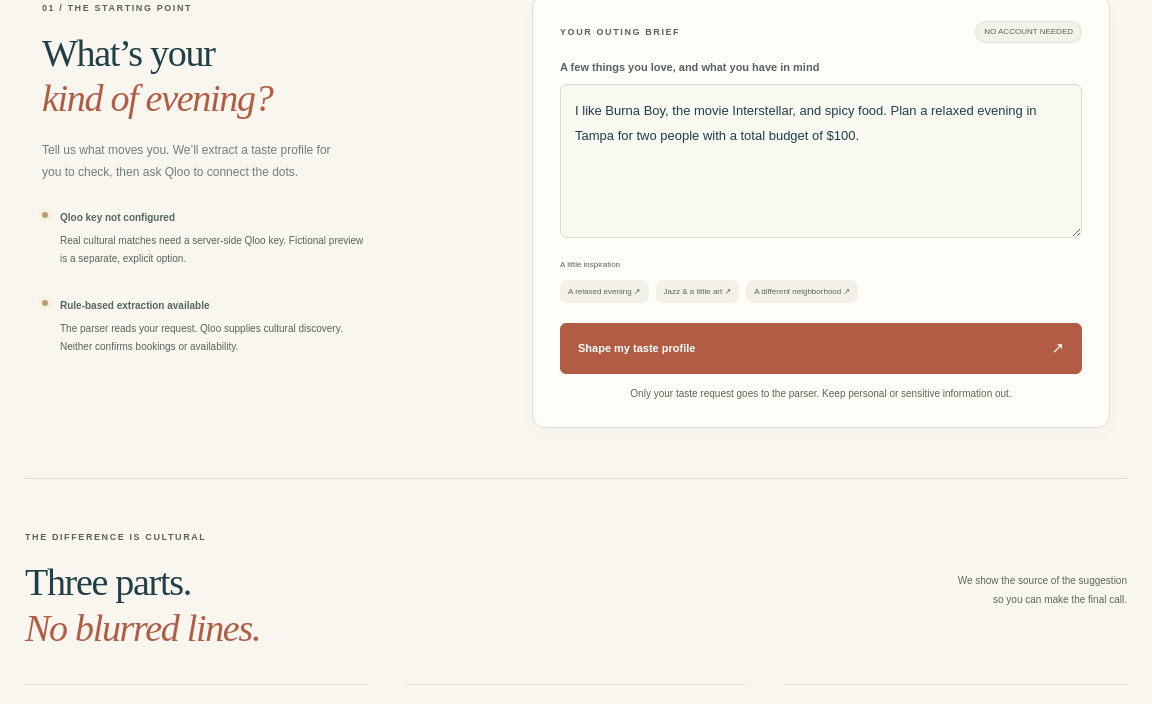
Test: taste-aware outing UI › displays Qloo failure without silently starting fixture mode
(page scrolled)
Click the button "Shape my taste profile ↗". click: (637, 348)
box: [560,323,1082,374]
(page scrolled)
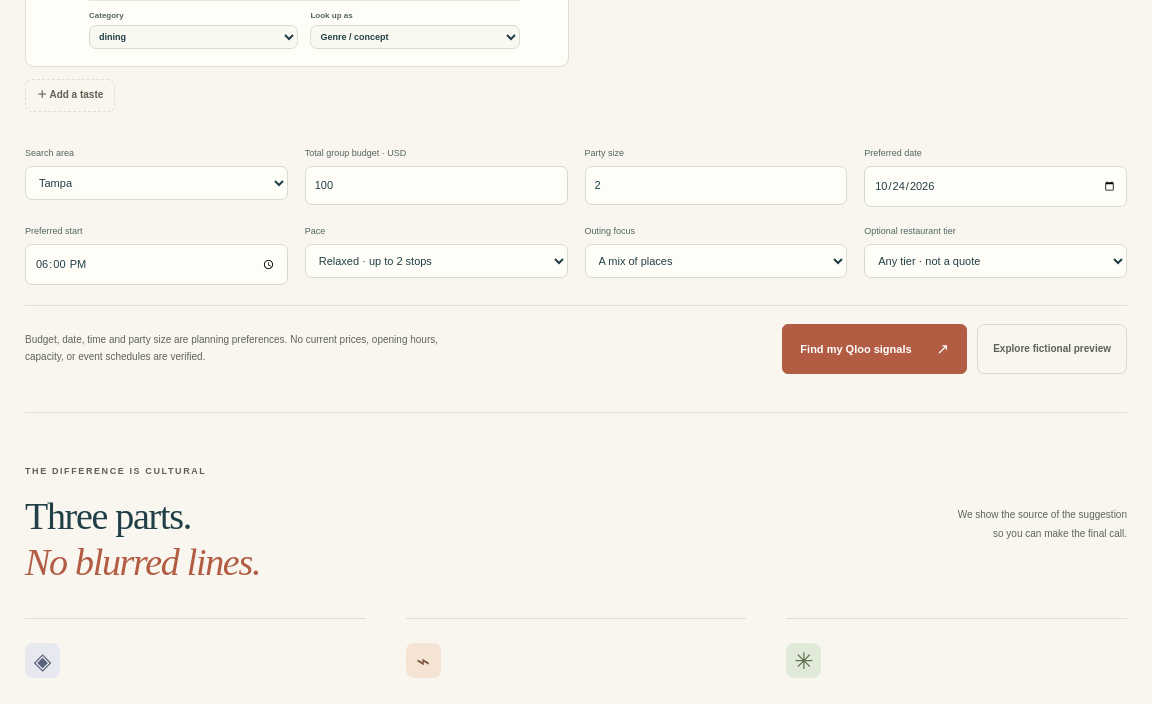
Click the button "Find my Qloo signals ↗". click: (875, 349)
box: [782,324,967,374]
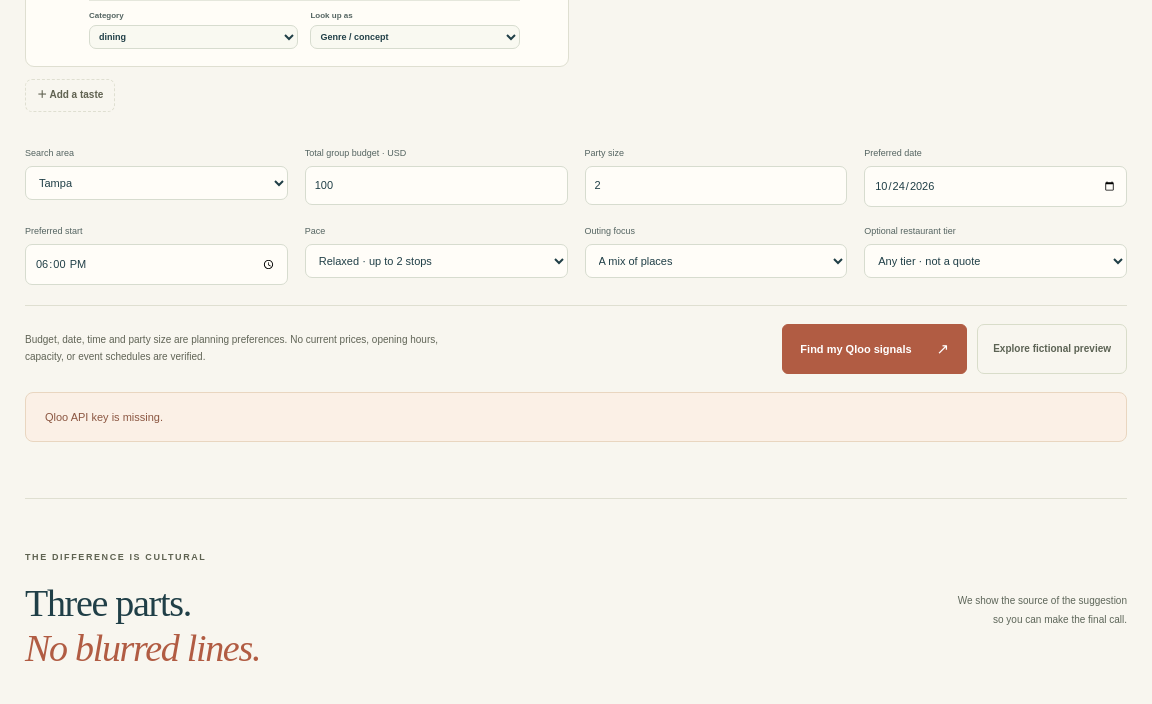
Now the message shows "Qloo API key is missing", box [45,411,163,423]
